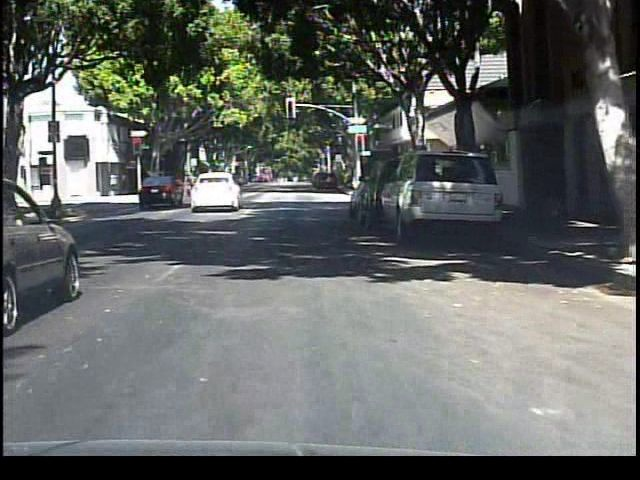person: (181, 166, 206, 205)
